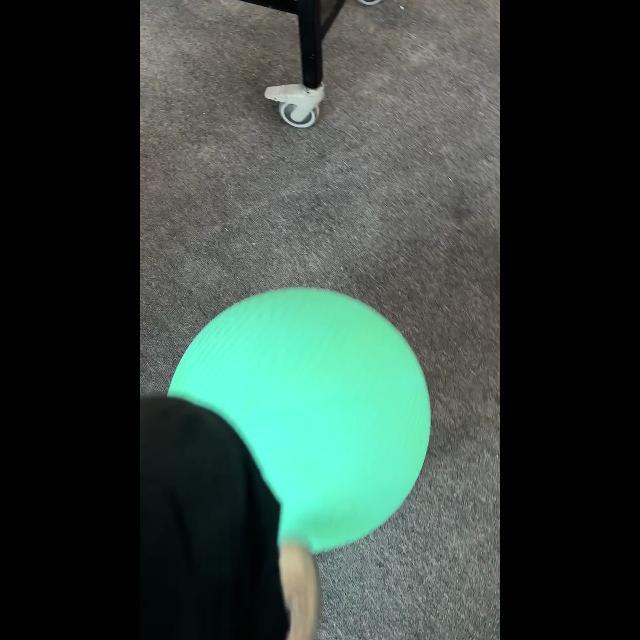ALGAE: (166, 286, 432, 554)
